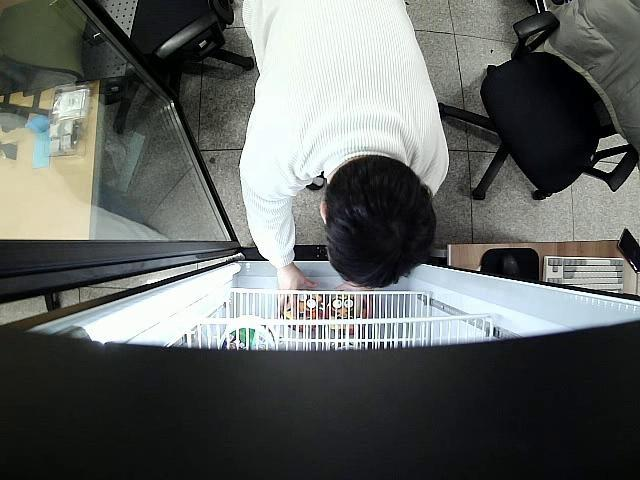05_nuguri_L: (280, 287, 329, 334), (329, 287, 374, 337)
